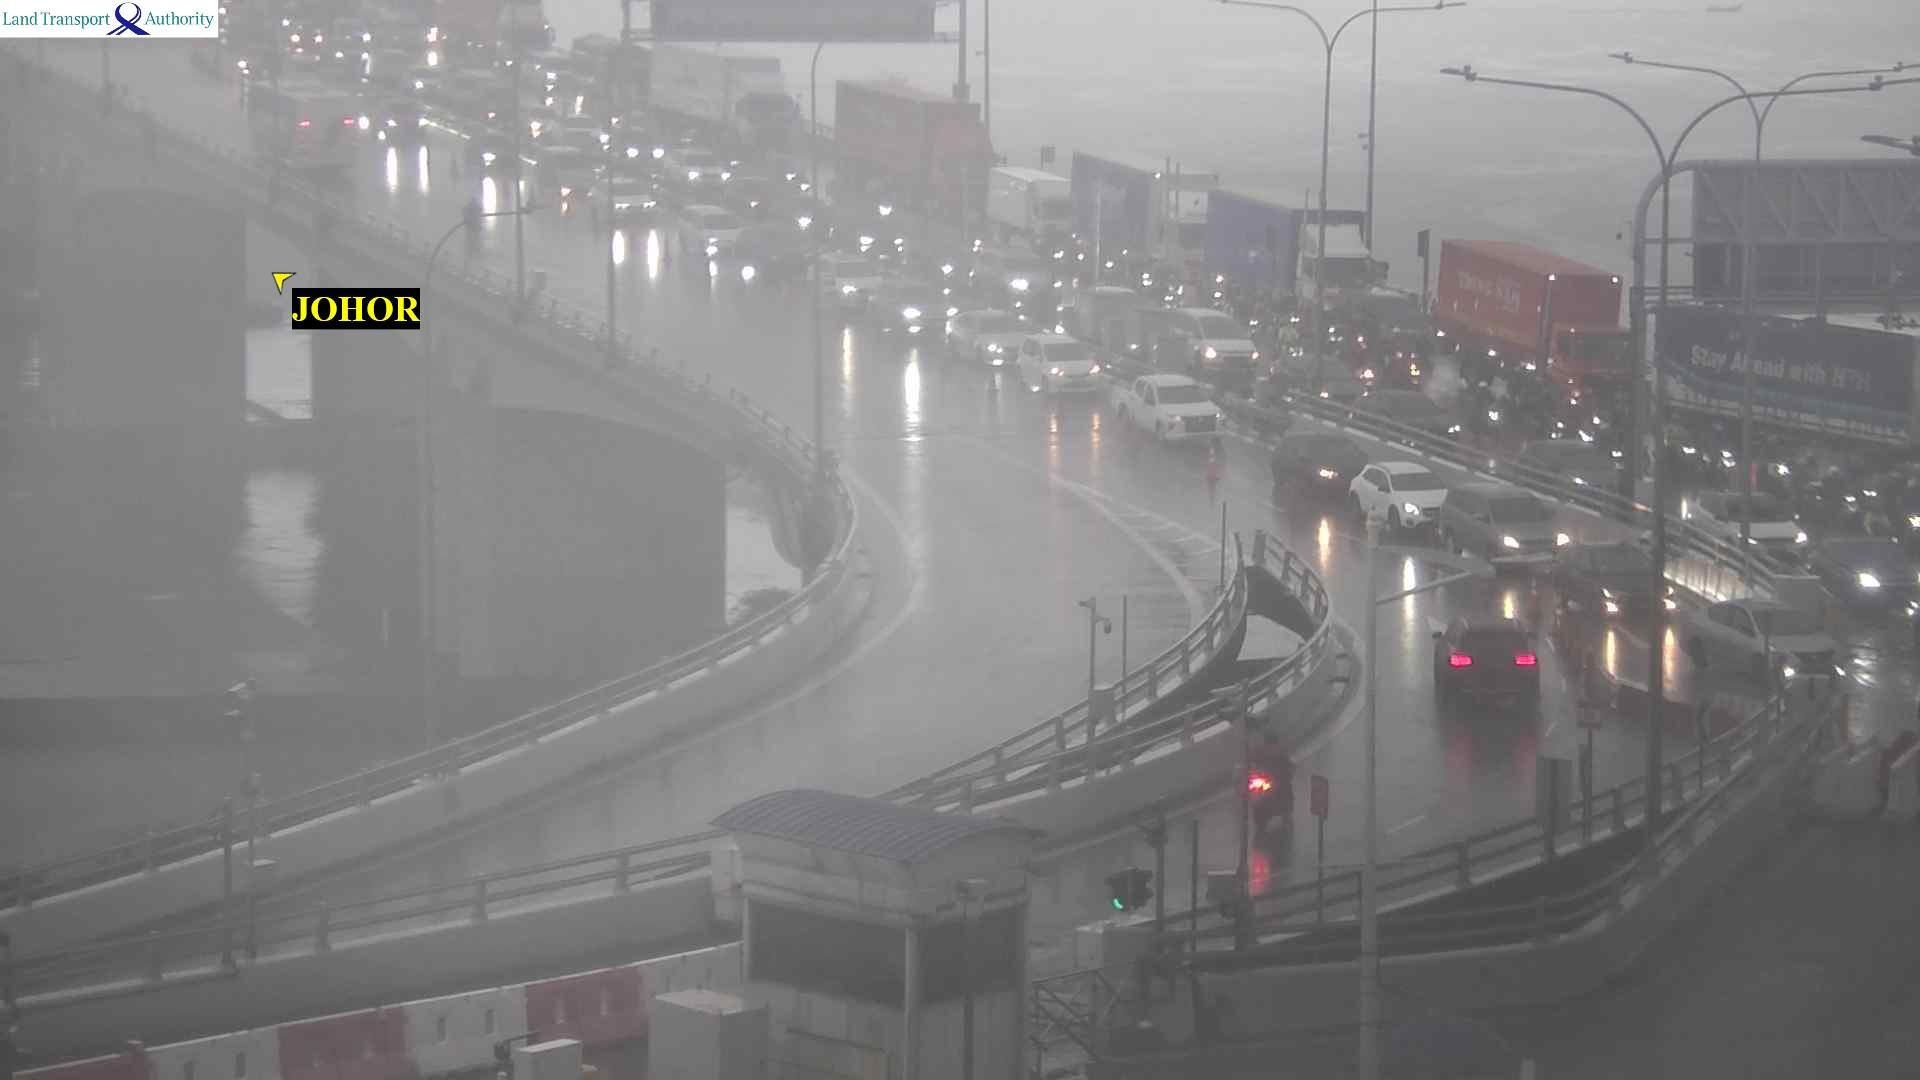vehicle-secondlink-johor: (251, 82, 356, 167), (1440, 615, 1538, 702)
vehicle-secondlink-singapore: (1443, 239, 1630, 386), (837, 82, 985, 218), (1208, 189, 1390, 294), (1072, 150, 1220, 258), (657, 45, 796, 149), (1683, 588, 1840, 680), (1440, 484, 1568, 574), (1553, 542, 1672, 617), (994, 331, 1125, 398), (1101, 373, 1230, 440), (1815, 537, 1920, 617), (1693, 488, 1809, 559), (992, 167, 1072, 256), (1271, 430, 1367, 495), (1352, 460, 1443, 527), (1523, 444, 1621, 498), (1357, 393, 1460, 443), (869, 287, 964, 336), (810, 253, 891, 306), (953, 315, 1036, 364), (596, 182, 669, 223), (678, 207, 738, 255), (662, 152, 728, 191), (376, 100, 430, 148), (476, 149, 514, 179)
